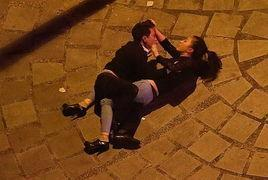Fall-Detected: (53, 17, 218, 156)
